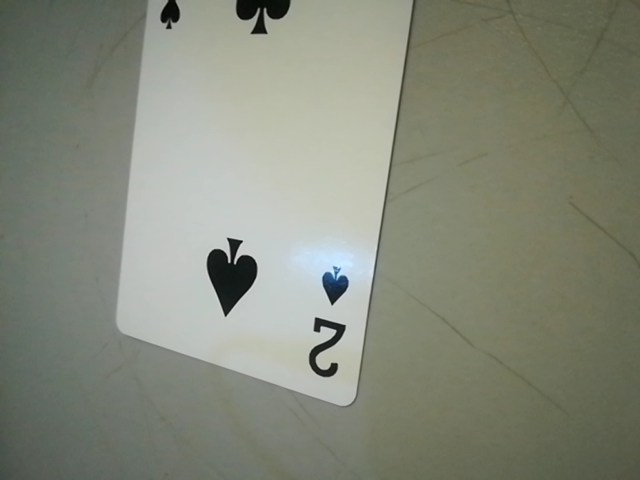ht 2: (295, 254, 365, 394)
